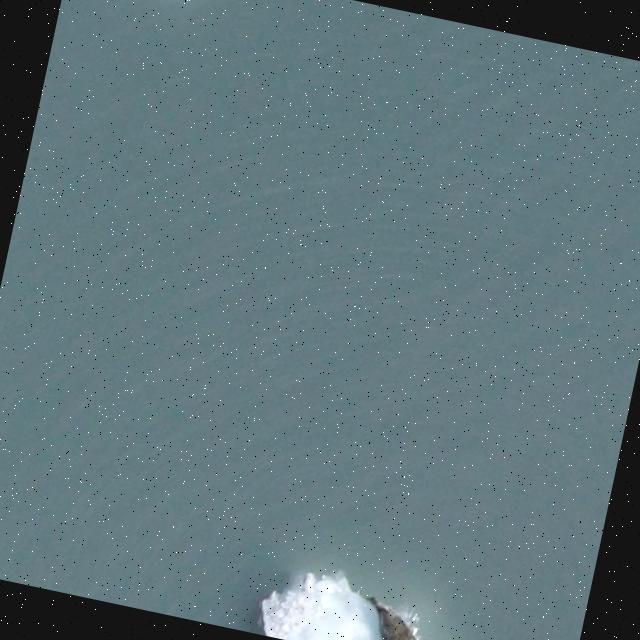seal: (368, 594, 418, 640)
